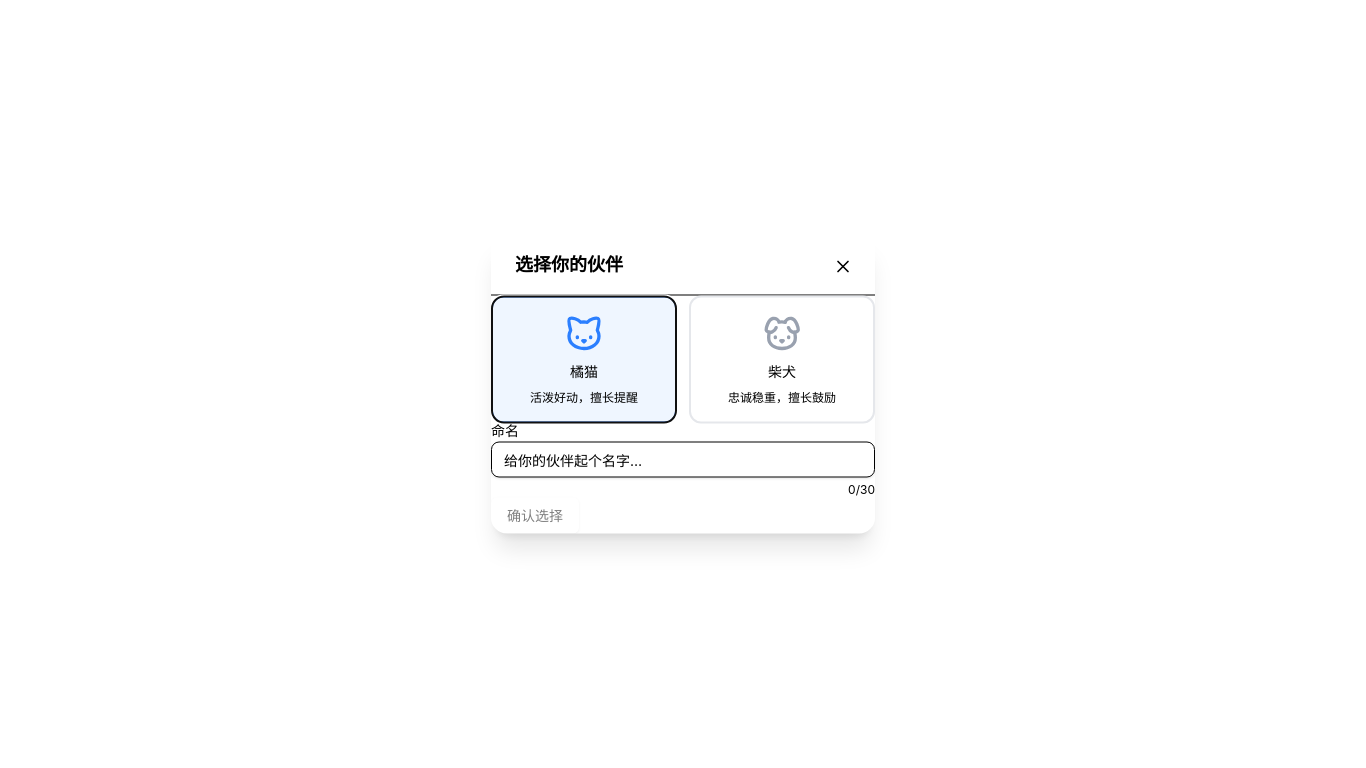
Test: PetSelection › 输入名称后可提交
This screenshot has width=1366, height=768.
Type "大橘" into the field with placeholder "给你的伙伴起个名字…".
click(683, 460); type("大橘")  # box x1=491 y1=442 x2=875 y2=478
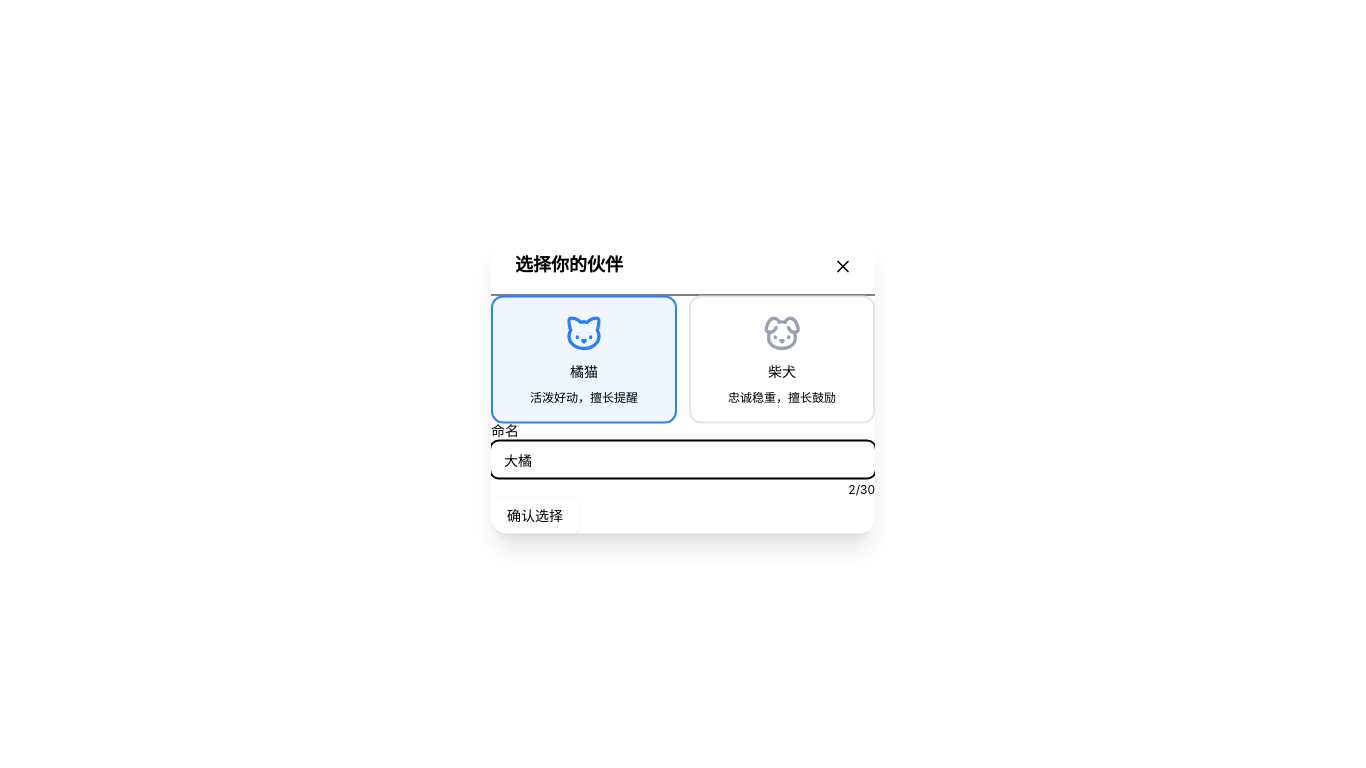
Check: the button "确认选择" is enabled, box x1=491 y1=498 x2=579 y2=534
